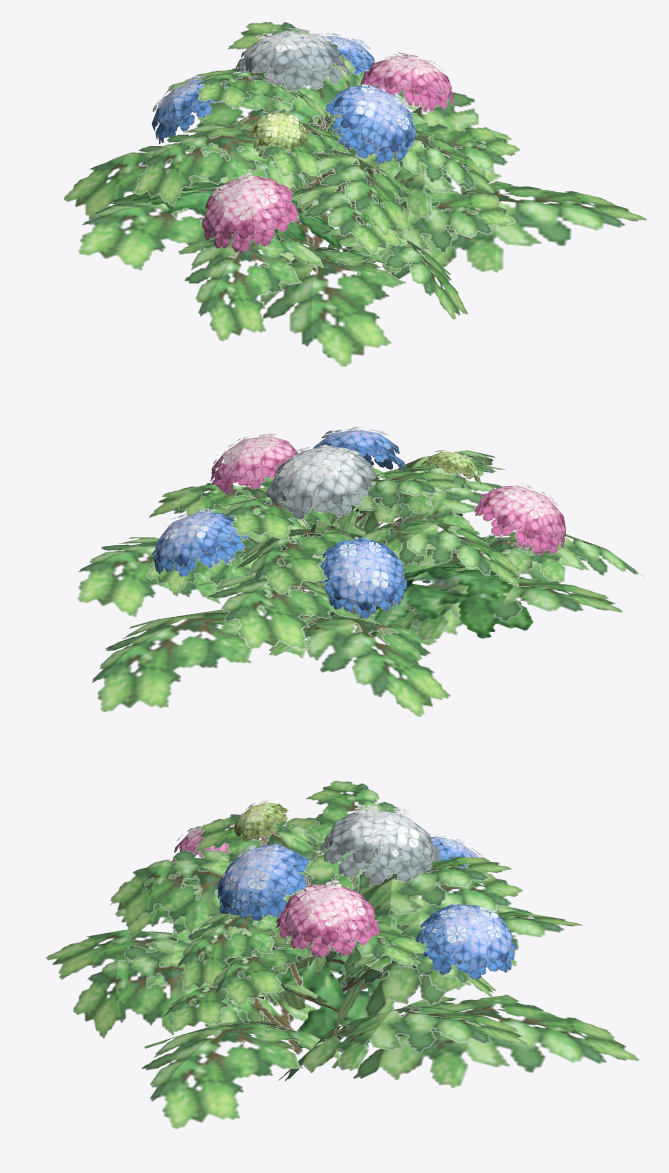
The model's file is Foliage Hydrangea A.fbx.
3 views of the same model, one above another, from view 1: azimuth 30°, elevation 25°; view 2: azimuth 150°, elevation 25°; view 3: azimuth 270°, elevation 25° (orthographic). The views are drawn at different scales.
Visible parts, largest first — view 1: Hydrangea Branch Leaves.001; view 2: Hydrangea Branch Leaves.001; view 3: Hydrangea Branch Leaves.001.
Part boxes in pixels (x1=…): Hydrangea Branch Leaves.001: x1=63, y1=22, x2=646, y2=367; Hydrangea Branch Leaves.001: x1=77, y1=427, x2=643, y2=716; Hydrangea Branch Leaves.001: x1=45, y1=780, x2=639, y2=1129.
Bounding box in the file's own units: 610 × 259 × 600.
